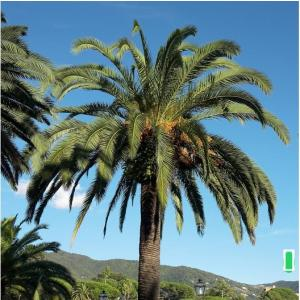palm tree: (24, 18, 290, 299), (0, 213, 76, 299)
